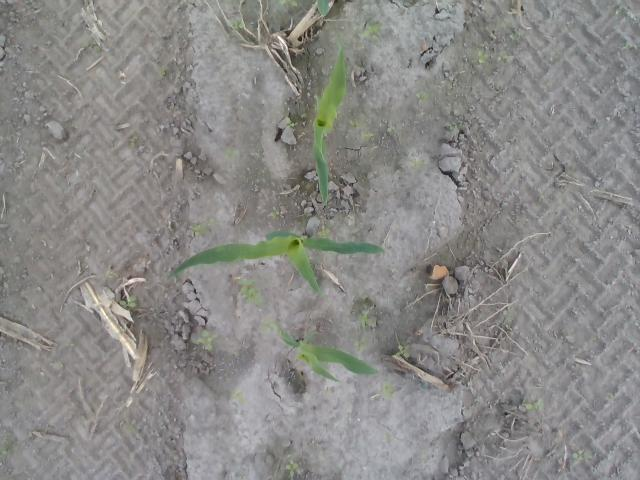Maize: (168, 232, 384, 294), (264, 316, 380, 382), (312, 38, 348, 204)
Weeds: (238, 275, 263, 305), (350, 300, 372, 328), (358, 21, 382, 40), (196, 328, 215, 352), (116, 294, 138, 310), (284, 459, 300, 480), (526, 397, 546, 411), (396, 342, 410, 360), (574, 448, 594, 460), (354, 338, 368, 354), (476, 49, 489, 64), (446, 120, 462, 131), (414, 88, 429, 98), (279, 0, 300, 7), (318, 229, 333, 238), (230, 18, 242, 29), (192, 223, 204, 233), (512, 31, 524, 41), (498, 52, 509, 62), (270, 210, 280, 220), (286, 119, 296, 128), (0, 448, 8, 456)
